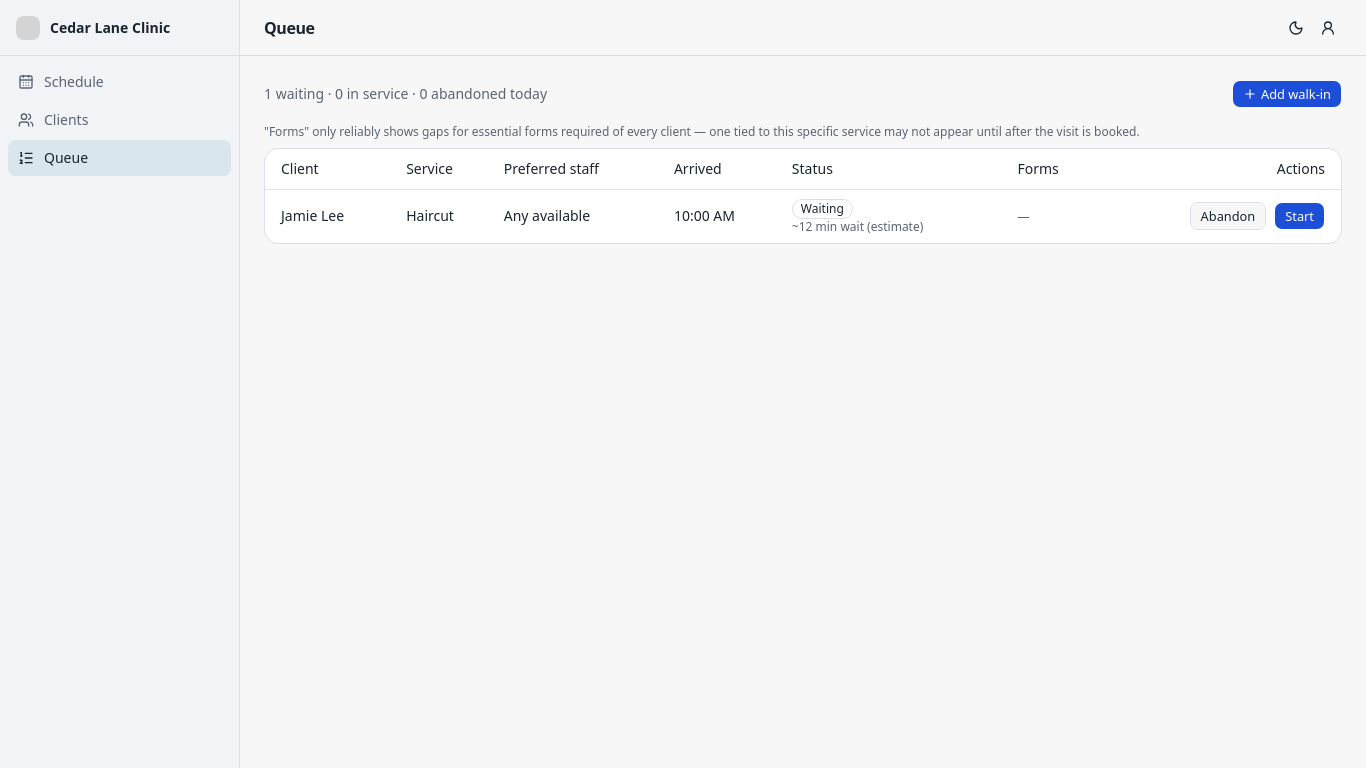
Test case: starting a walk-in moves it out of the waiting list
Step 1. Click the button "Start" → click(1300, 216), box [1274,202,1325,230]
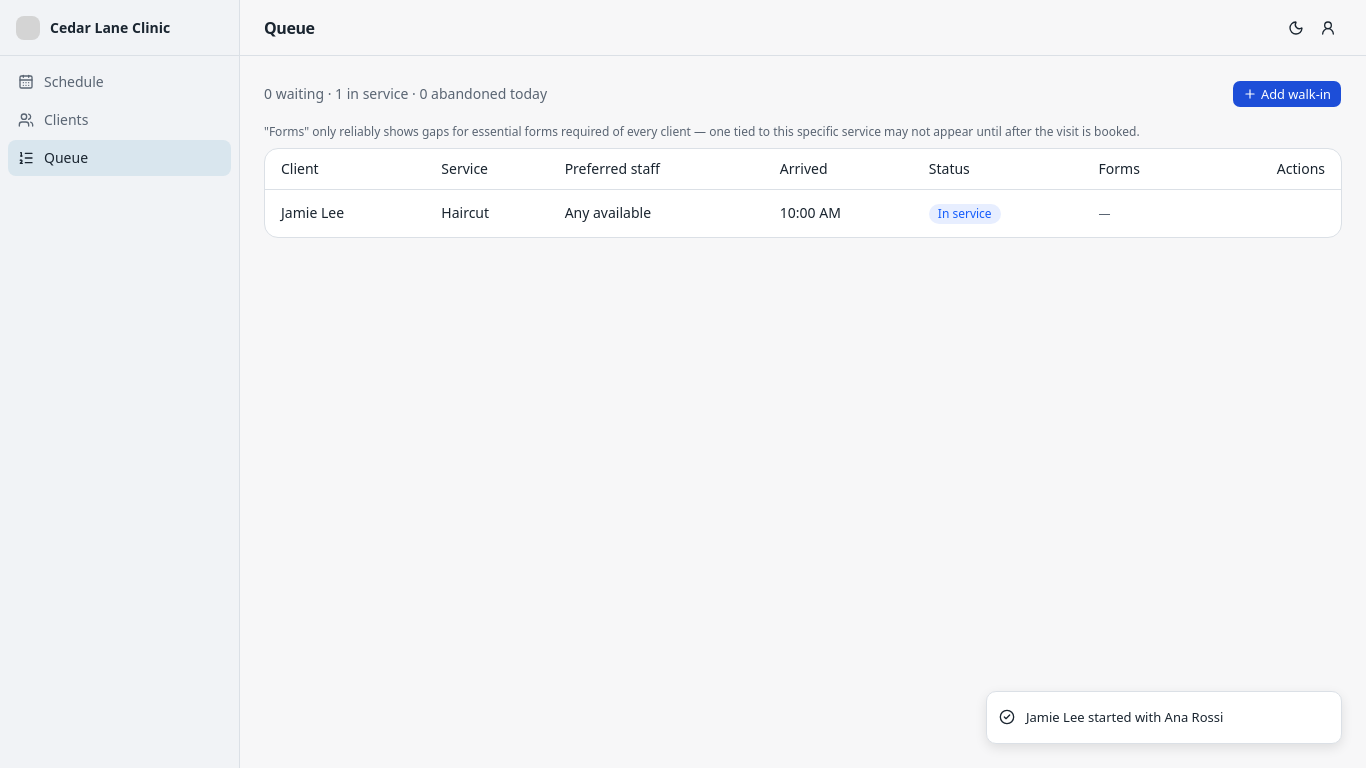
Expected: the text "In service" is shown, [929,204,1001,224]
